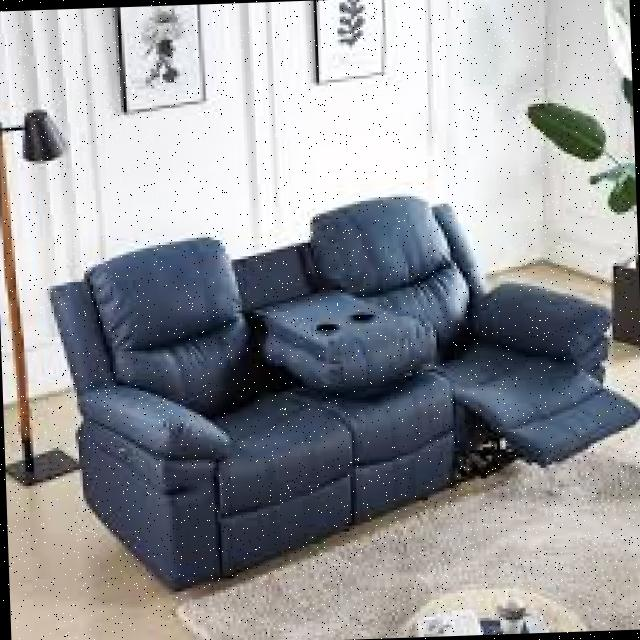Sofa: (25, 168, 640, 614)
